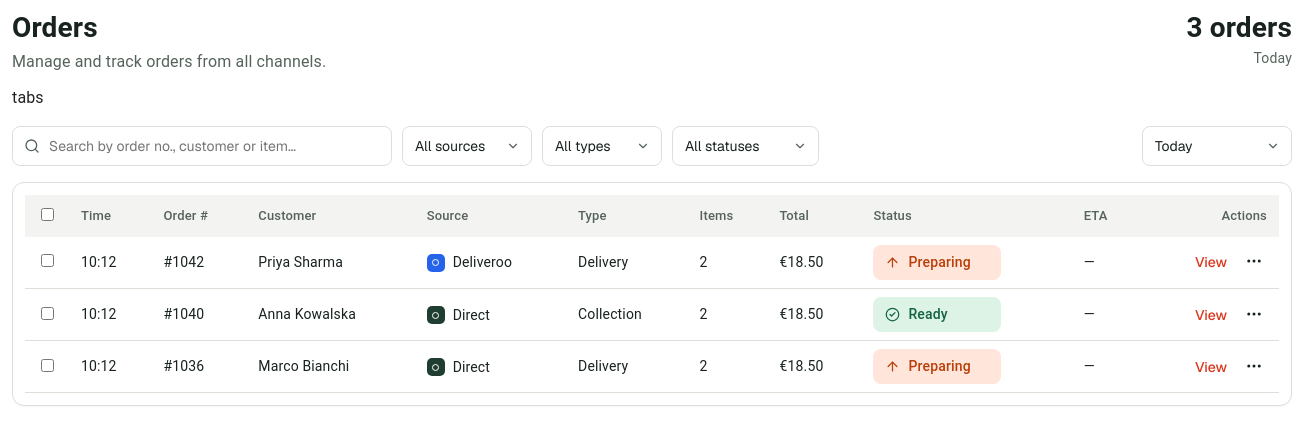
Test: OrdersTab › filters by status, shows a removable chip and a status summary
The image size is (1304, 423).
Step 1. Select "Preparing" in the 3rd dropdown named "Status" → [746, 146], box left=672, top=126, right=819, bottom=166
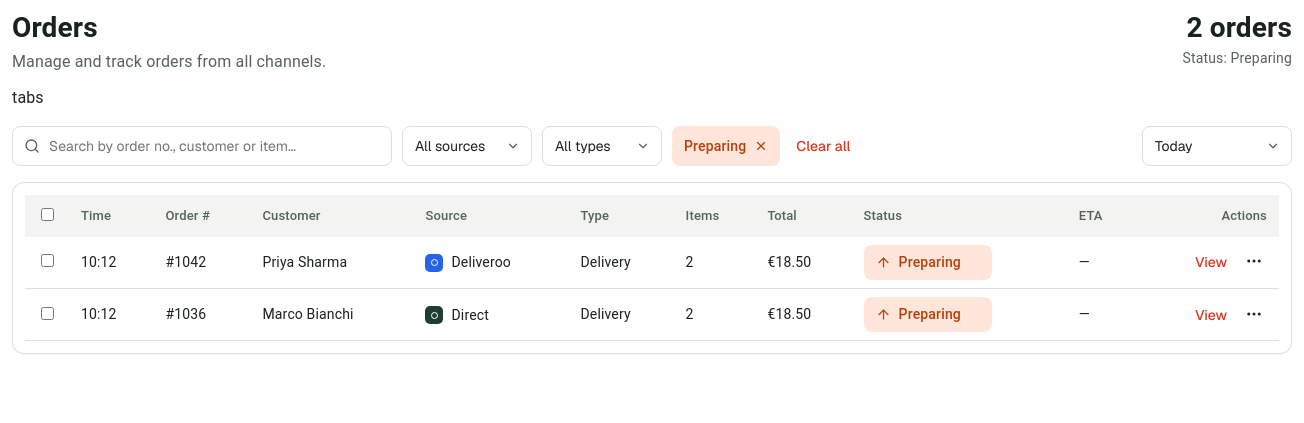
Now the text "2 orders" is shown, box left=1182, top=12, right=1292, bottom=44
Now the text "Status: Preparing" is shown, box left=1182, top=48, right=1292, bottom=69
Now the text "Anna Kowalska" is gone
Step 2. Click the button "Clear all" → [823, 146], box left=790, top=136, right=856, bottom=156
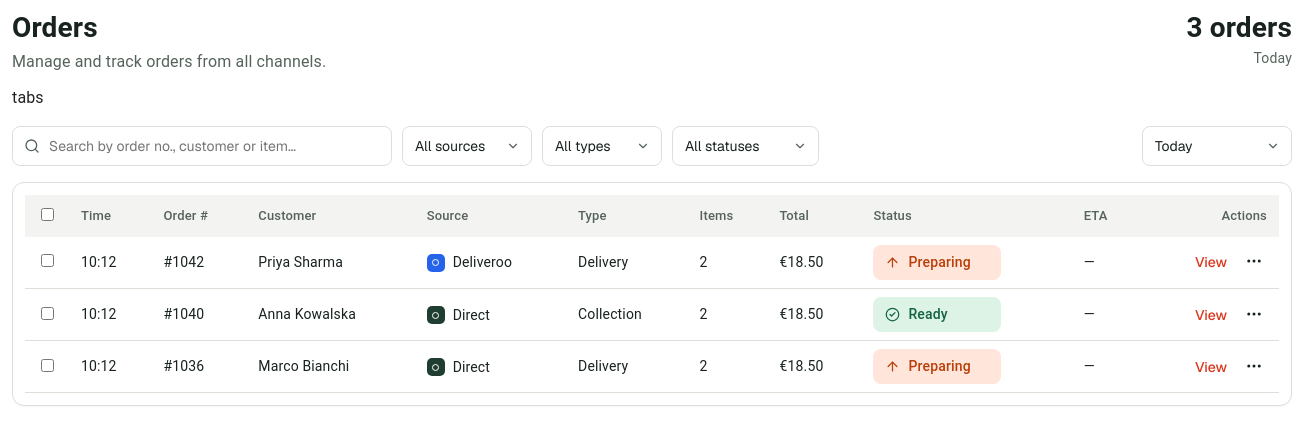
Now the text "3 orders" is shown, box left=1186, top=12, right=1292, bottom=44
